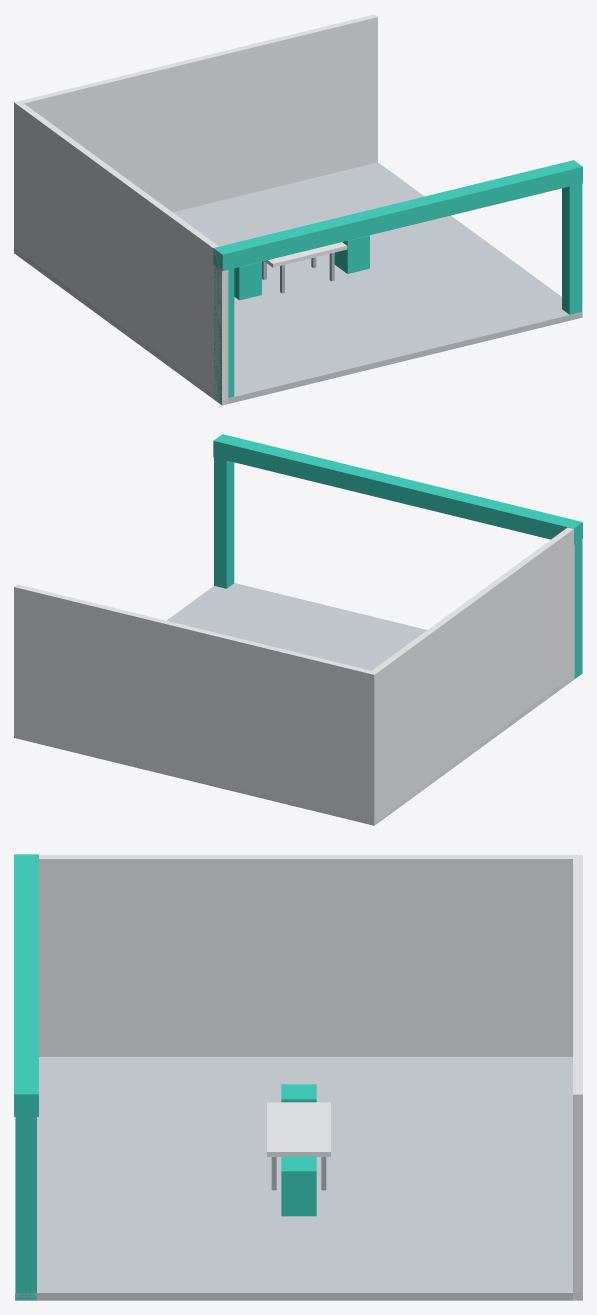
3 views of the same model, one above another, from view 1: azimuth 30°, elevation 25°; view 2: azimuth 150°, elevation 25°; view 3: azimuth 270°, elevation 25° (orthographic). The views are drawn at different scales.
Visible parts, largest first — view 1: Exhibition Booth Concept; view 2: Exhibition Booth Concept; view 3: Exhibition Booth Concept.
Part boxes in pixels (bbox=[...]): Exhibition Booth Concept: bbox=[14, 14, 582, 405]; Exhibition Booth Concept: bbox=[14, 434, 582, 825]; Exhibition Booth Concept: bbox=[14, 854, 582, 1300].
Bounding box in the file's own units: 8 × 3.2 × 8.01.
